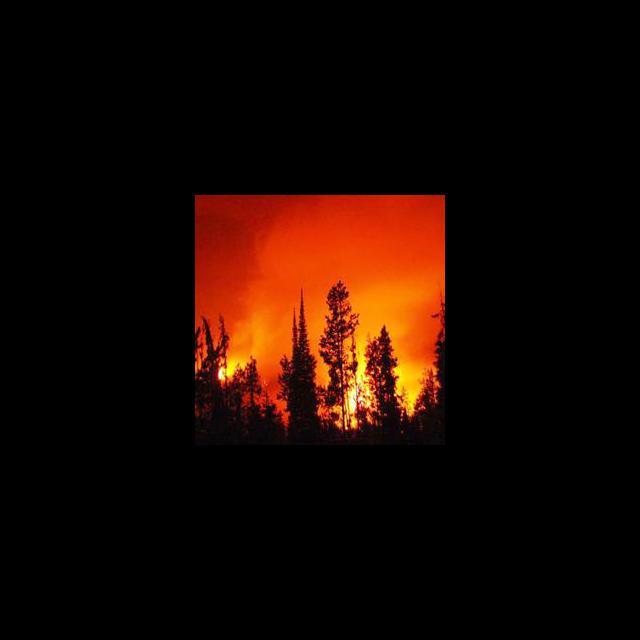Fire: (342, 371, 373, 415), (214, 363, 240, 381)
